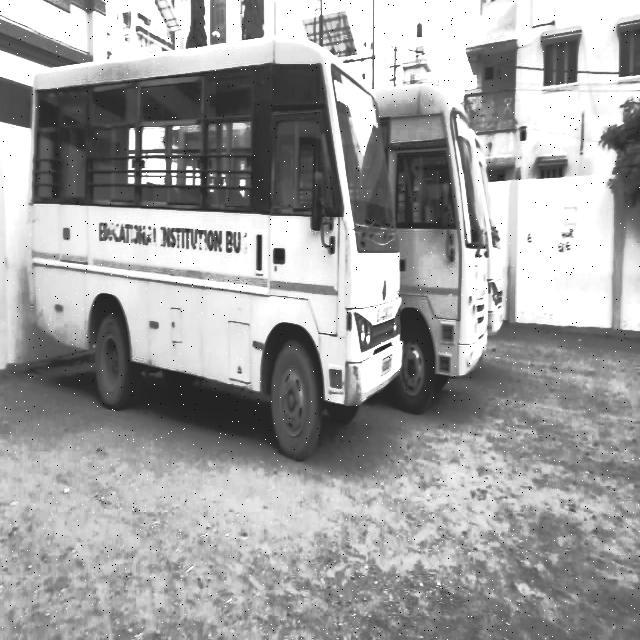Bus: (26, 41, 402, 480), (387, 80, 492, 434), (484, 128, 513, 367)
